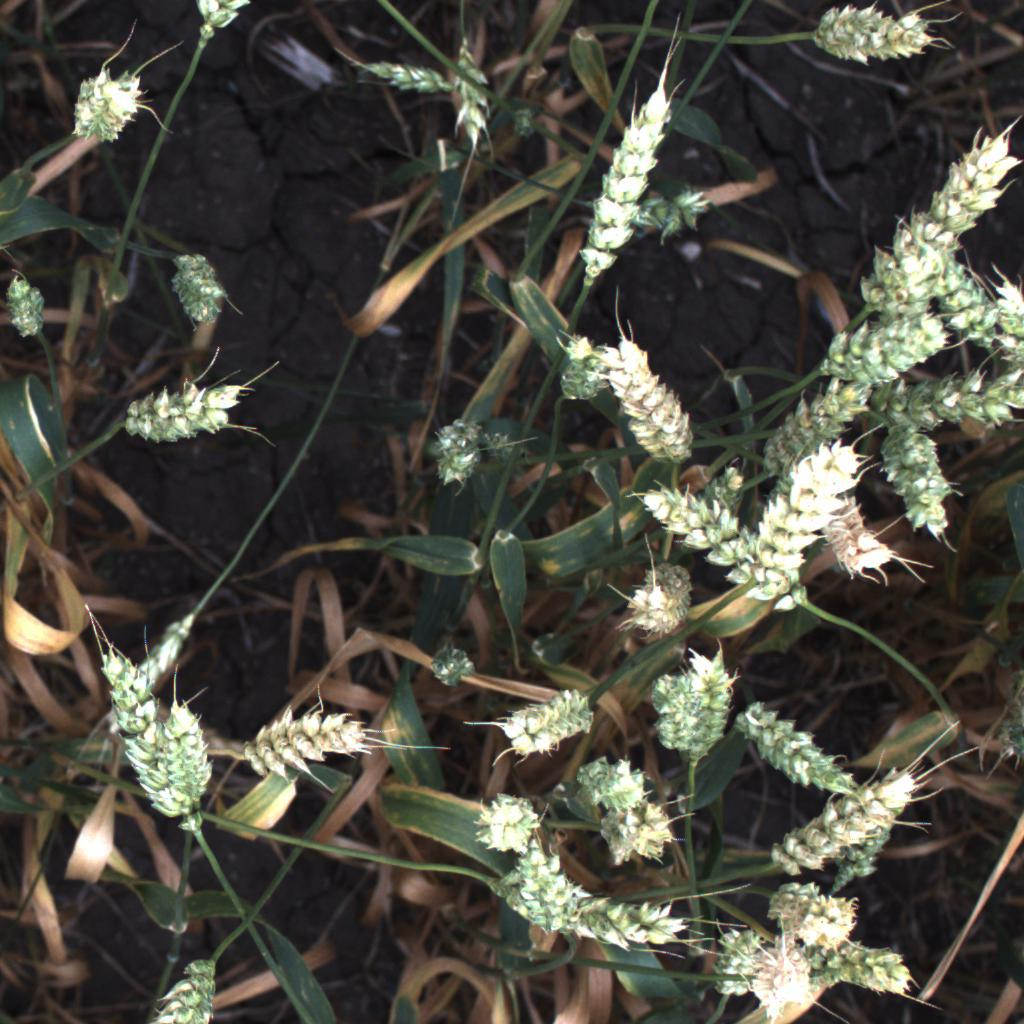0-0: (847, 123, 1024, 328), (562, 67, 692, 295), (714, 434, 874, 598), (616, 464, 796, 601), (89, 633, 193, 829), (762, 762, 923, 882), (493, 871, 692, 961), (724, 690, 864, 803), (232, 693, 389, 790), (629, 646, 749, 763), (740, 383, 867, 492), (600, 326, 699, 463), (111, 360, 254, 453), (877, 418, 969, 552), (53, 50, 156, 163), (798, 0, 948, 72), (807, 318, 954, 390), (892, 360, 1019, 443), (767, 941, 918, 1009), (125, 946, 245, 1024), (814, 497, 920, 580), (410, 404, 500, 500), (160, 685, 221, 821), (752, 875, 867, 947), (497, 687, 601, 766), (829, 803, 908, 897), (559, 743, 655, 818), (441, 40, 503, 156), (618, 557, 704, 640), (158, 235, 227, 338), (694, 921, 779, 1003), (932, 252, 1001, 352), (586, 802, 689, 868), (545, 327, 618, 416), (472, 783, 546, 864), (1, 265, 57, 352), (356, 58, 464, 102), (986, 274, 1024, 352), (175, 0, 249, 38), (421, 644, 471, 689)
